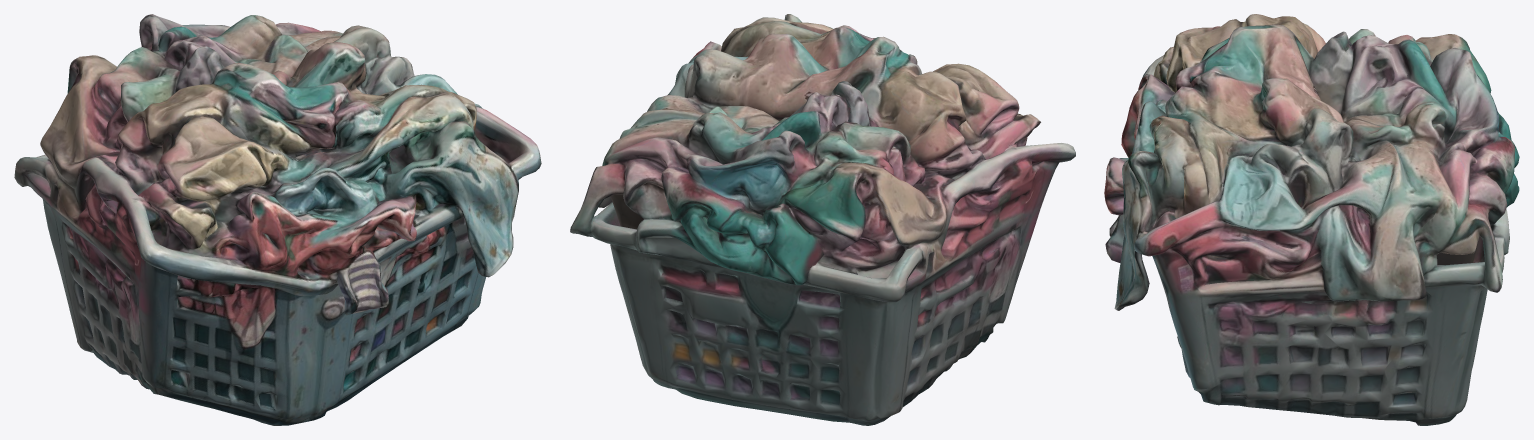
File: basket.glb
3 renders of one model, left to right at view 1: azimuth 30°, elevation 25°; view 2: azimuth 150°, elevation 25°; view 3: azimuth 270°, elevation 25°, orthographic. The views are drawn at different scales.
Parts seen in each view (by area): view 1: piece; view 2: piece; view 3: piece.
Boxes of the visible parts, bbox=[...] form: piece: bbox=[14, 14, 541, 425]; piece: bbox=[570, 14, 1075, 425]; piece: bbox=[1104, 14, 1519, 425].
Size of the model in its own units: 0.6077 by 0.5 by 0.55.
Materials: 1 (1 with a texture image).
